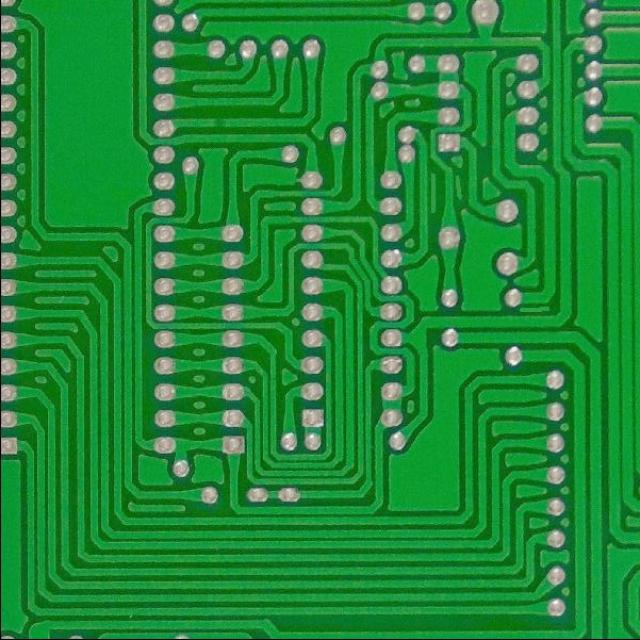spurious_copper: (515, 302, 554, 321), (424, 170, 439, 217), (450, 172, 464, 204)
